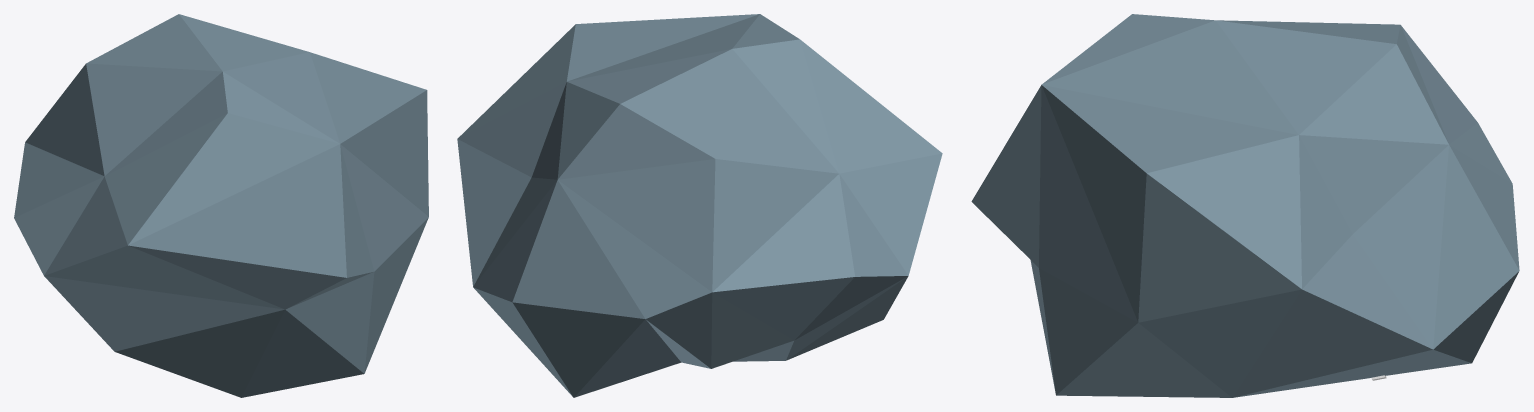
Rendered from rock1_desert.glb.
3 renders of one model, left to right at view 1: azimuth 30°, elevation 25°; view 2: azimuth 150°, elevation 25°; view 3: azimuth 270°, elevation 25°, orthographic. The views are drawn at different scales.
Visible parts, largest first — view 1: Cube; view 2: Cube; view 3: Cube.
Part boxes in pixels (x1=…): Cube: x1=14, y1=14, x2=428, y2=397; Cube: x1=457, y1=14, x2=942, y2=397; Cube: x1=971, y1=14, x2=1519, y2=397.
Size of the model in its own units: 1.42 by 0.9966 by 1.41.
